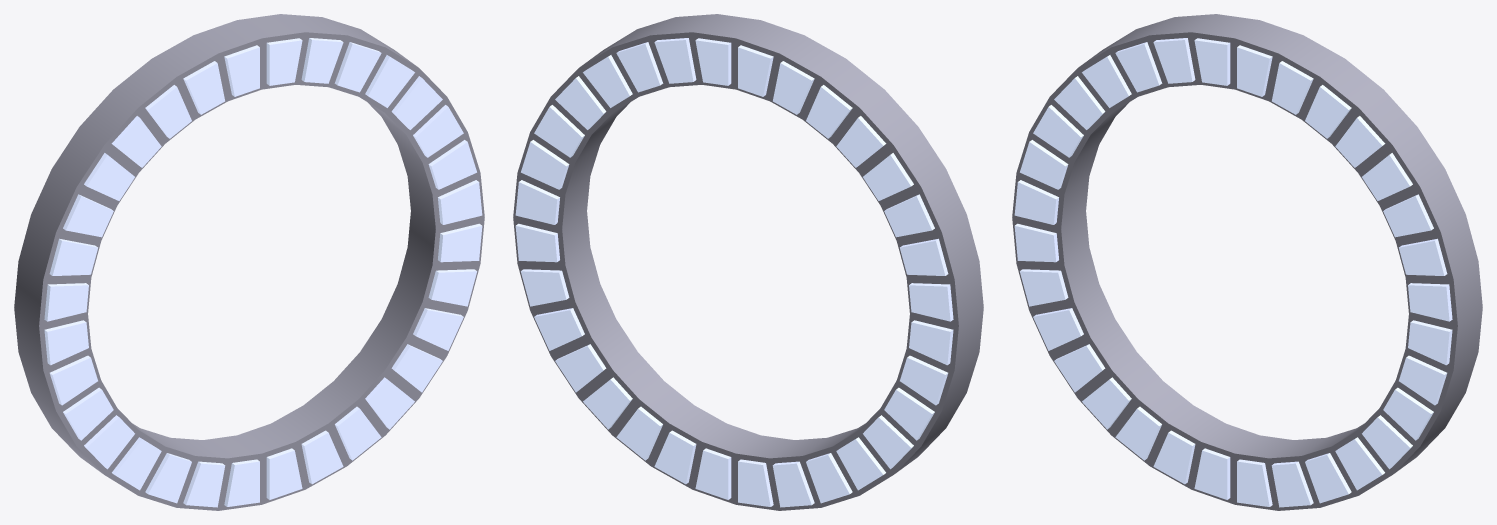
Rendered from Portal_Aro.fbx.
The picture shows the model from 3 angles, left to right: view 1: azimuth 30°, elevation 25°; view 2: azimuth 150°, elevation 25°; view 3: azimuth 330°, elevation 25°; orthographic projection.
Parts seen in each view (by area): view 1: Aro; view 2: Aro; view 3: Aro.
Part boxes in pixels (bbox=[...]): Aro: bbox=[14, 14, 484, 510]; Aro: bbox=[513, 14, 983, 510]; Aro: bbox=[1012, 14, 1482, 510].
Size of the model in its own units: 118 by 118 by 14.11.
